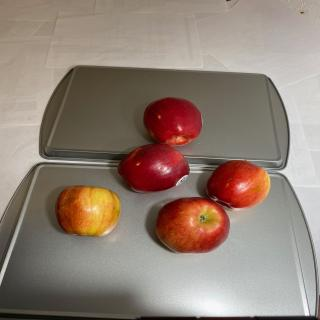Apple: (155, 197, 230, 254), (117, 143, 190, 193), (55, 185, 121, 237), (206, 160, 271, 210), (143, 96, 202, 146)
